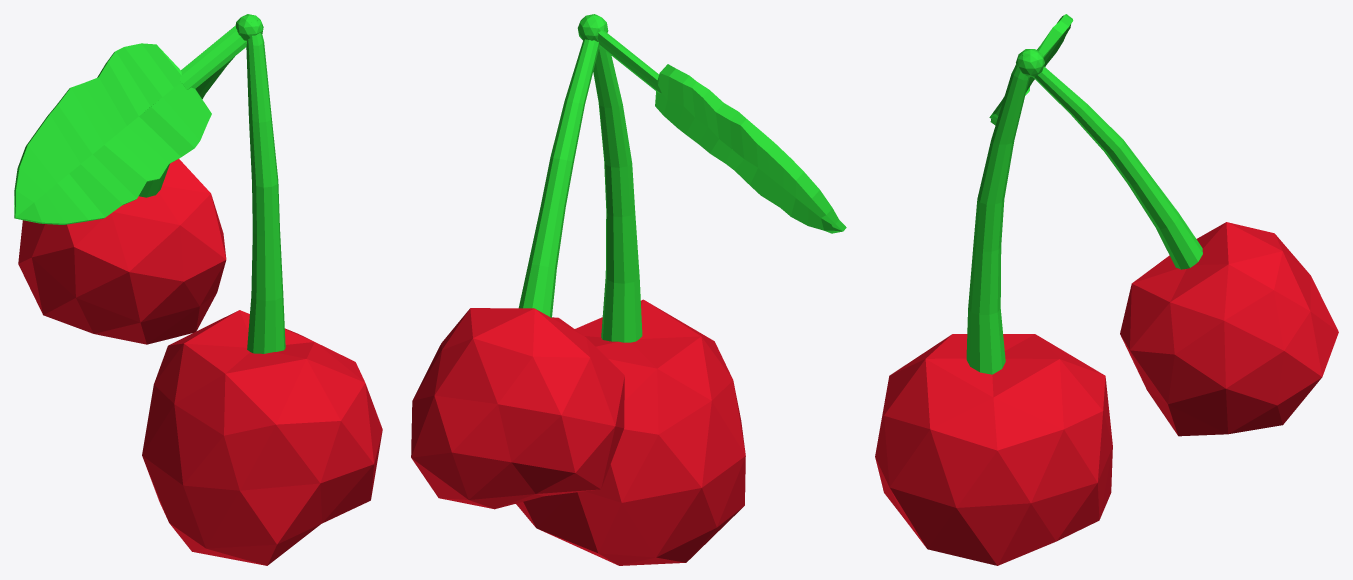
The model's file is Low_Poly_Berry.fbx.
3 renders of one model, left to right at view 1: azimuth 30°, elevation 25°; view 2: azimuth 150°, elevation 25°; view 3: azimuth 270°, elevation 25°, orthographic. The views are drawn at different scales.
Parts seen in each view (by area): view 1: Berry; view 2: Berry; view 3: Berry.
Boxes of the visible parts, x1=… form: Berry: x1=14, y1=14, x2=382, y2=565; Berry: x1=411, y1=14, x2=846, y2=565; Berry: x1=875, y1=14, x2=1338, y2=565.
Bounding box in the file's own units: 118 × 173 × 142.
